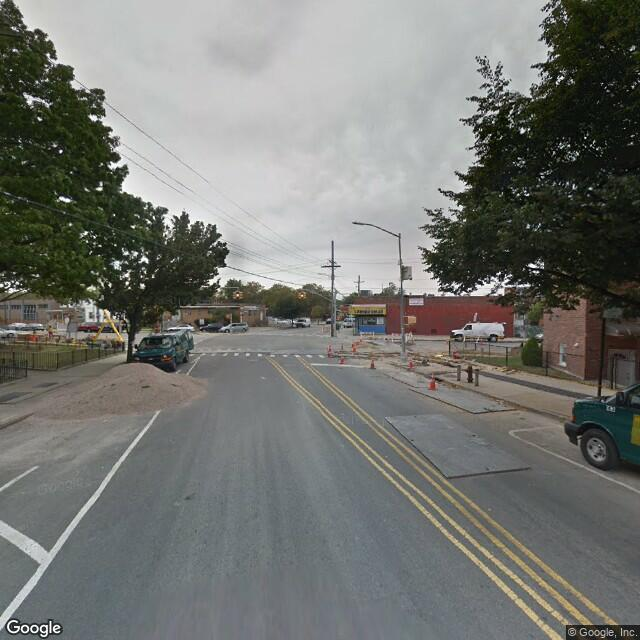litter: (432, 351, 450, 360)
